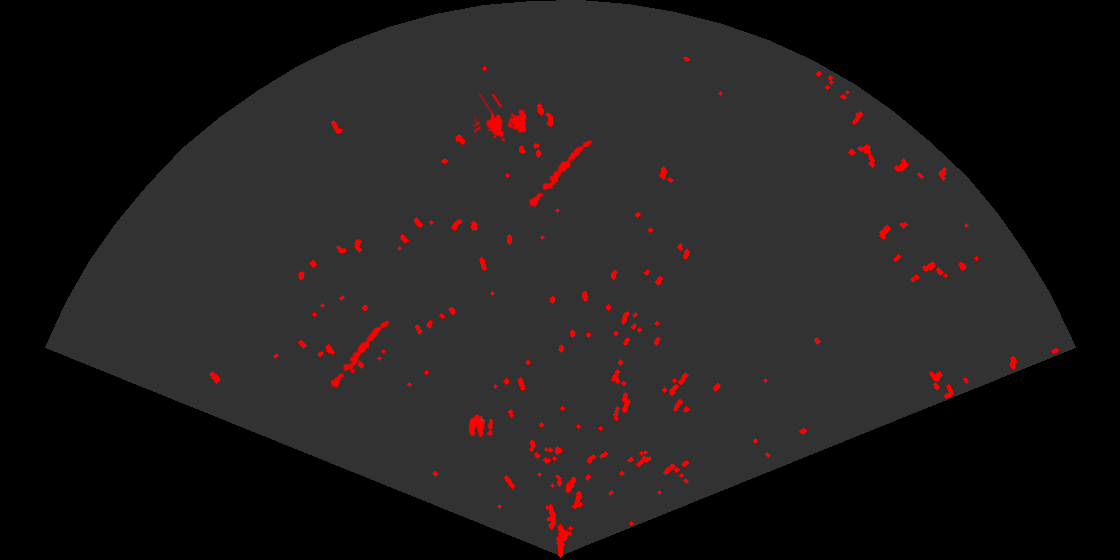ball: (467, 413, 495, 439)
cage: (474, 94, 528, 143)
chain: (522, 138, 594, 213), (325, 319, 391, 393)
